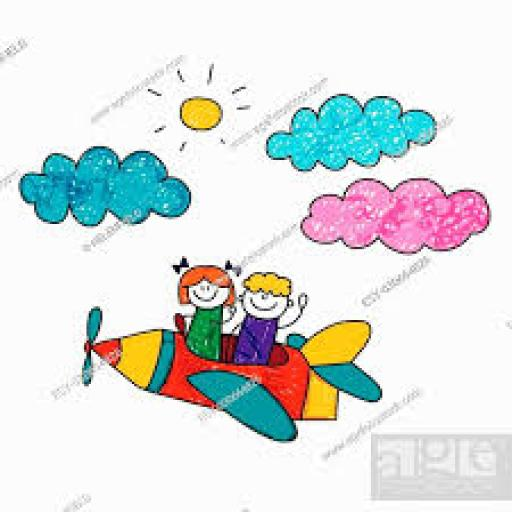person: (162, 251, 242, 360), (230, 264, 311, 370)
